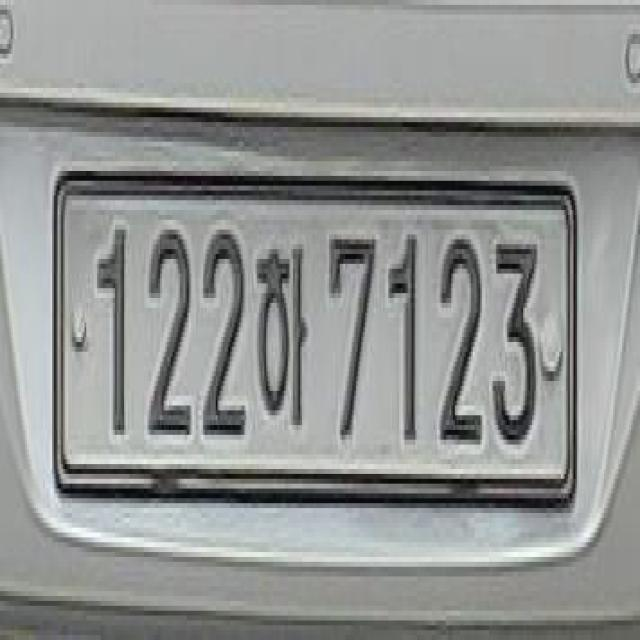illegal_plate: (47, 160, 581, 531)
